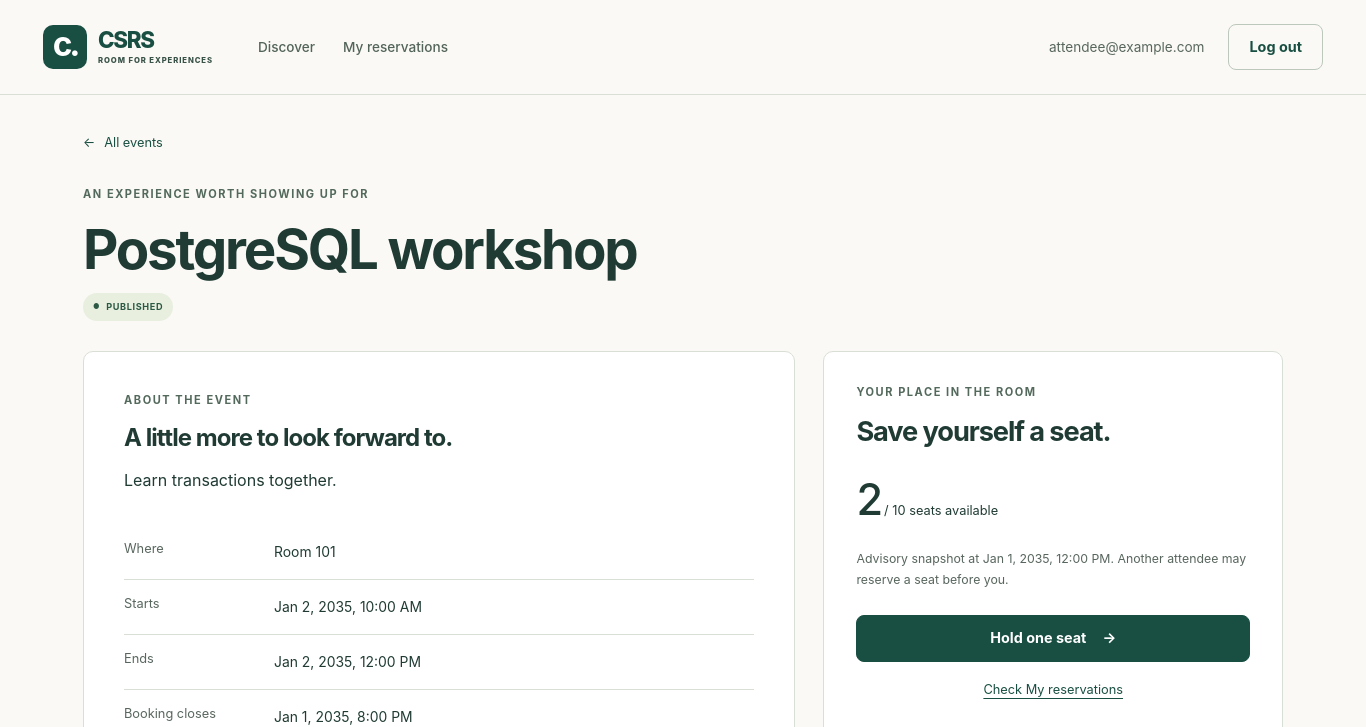
Test: events and reservation workflows › does not redirect back to a departed screen after a hold completes
What coordinates should you click on to do the following:
click the button "Hold one seat →"
I would click on:
 (1053, 638)
Its box is 856,615 -> 1250,662.
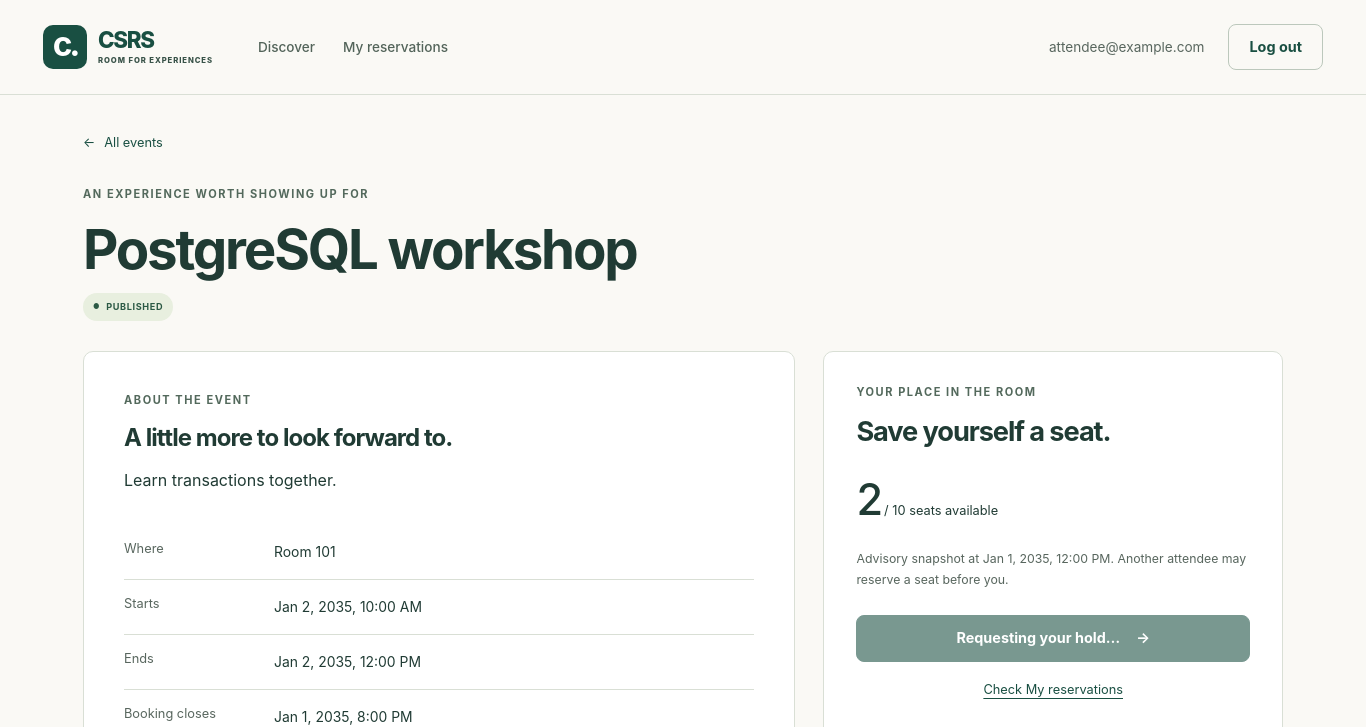
What coordinates should you click on to do the following:
click the link "My reservations"
I would click on:
 (396, 47)
Its box is 343,39 -> 448,55.
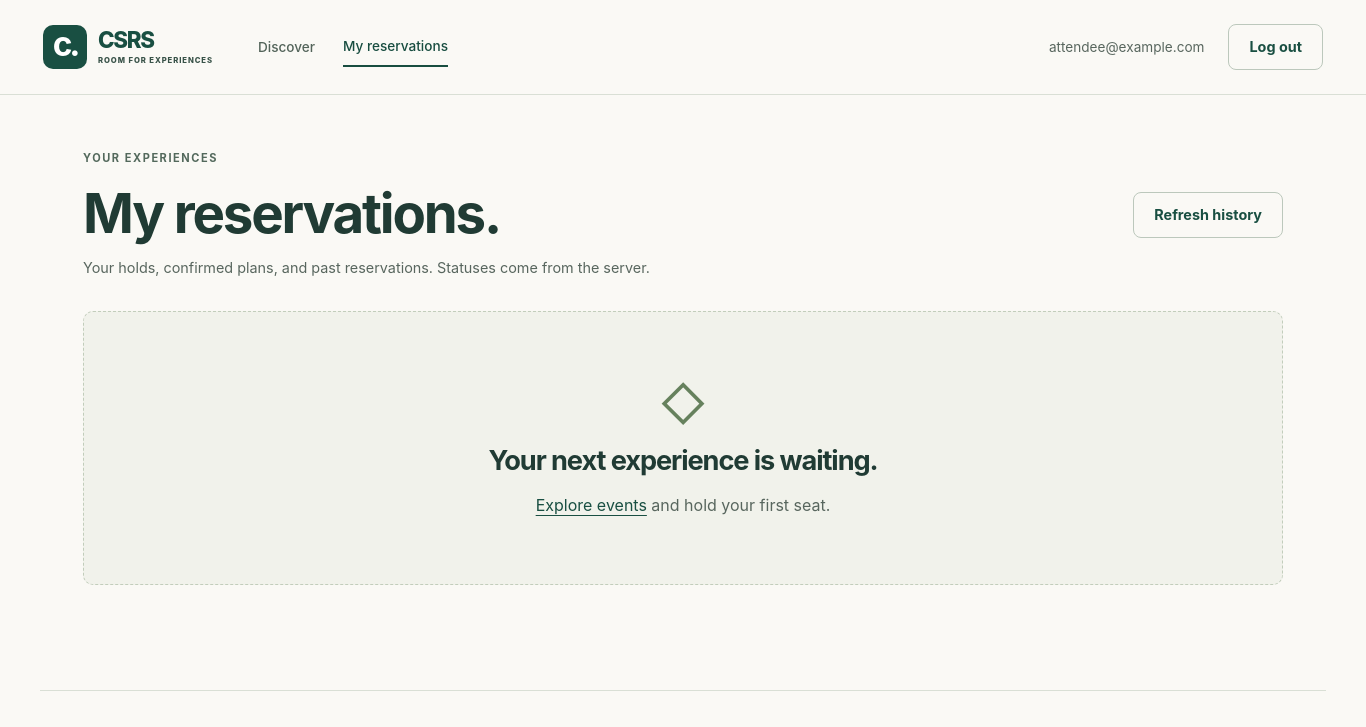
Expected: the heading "My reservations." is shown, 83,180 -> 500,246
